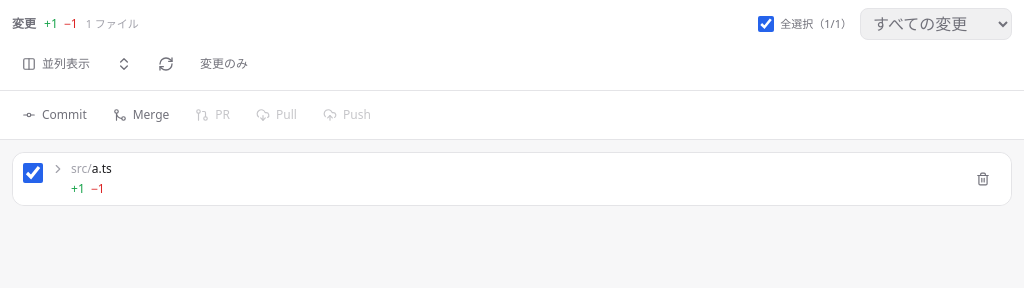
Test: DiffPane lazy hunks › loads the list from numstat and fetches a file's hunks only when it is expanded
This screenshot has width=1024, height=288.
Expected: the text "a.ts" is shown, [92,161,112,177]
Expected: the text "new line" is not shown
Click the button with aria-label "src/a.ts の差分を展開" at [58, 169], box [51,161,957,177]
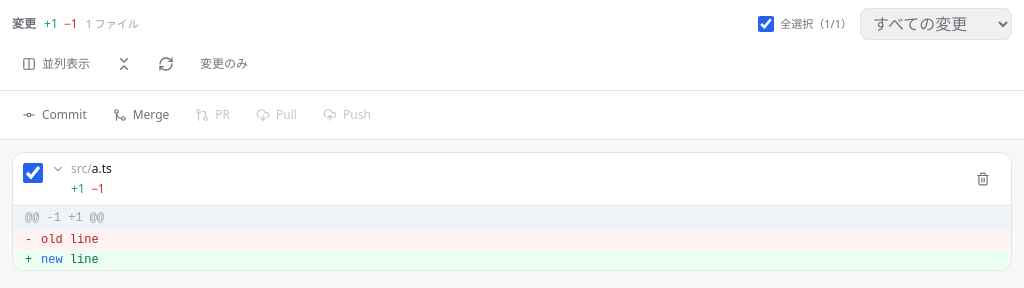
Expected: the text "new line" is shown, [41,250,99,270]
